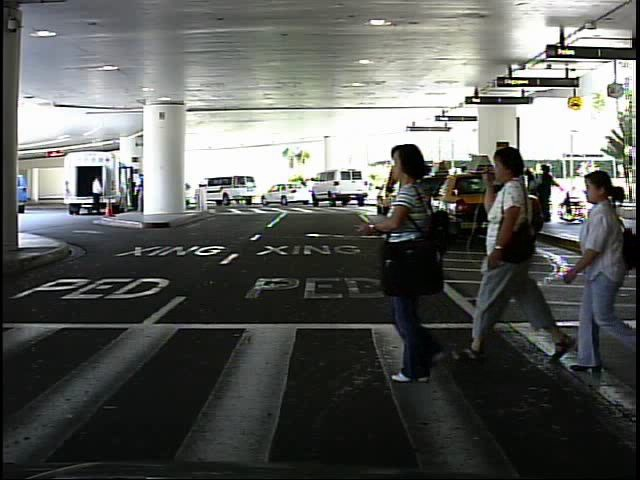person: (375, 131, 473, 388), (473, 133, 574, 372), (559, 167, 640, 375), (88, 170, 106, 220), (600, 172, 606, 217)
